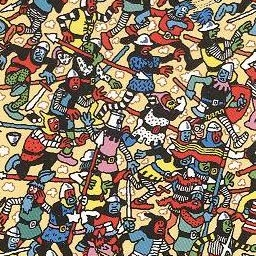waldo: (185, 116, 208, 140)
